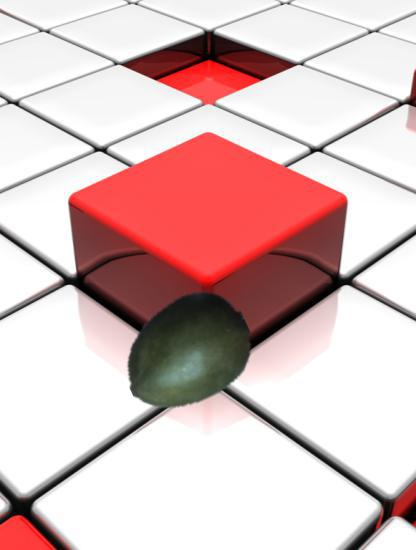Mango: (119, 284, 252, 417)
